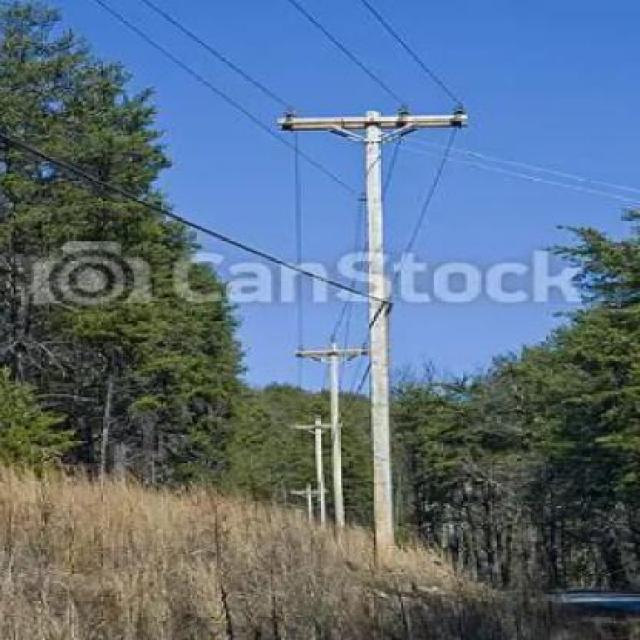pole: (268, 100, 486, 566), (284, 338, 365, 530)
